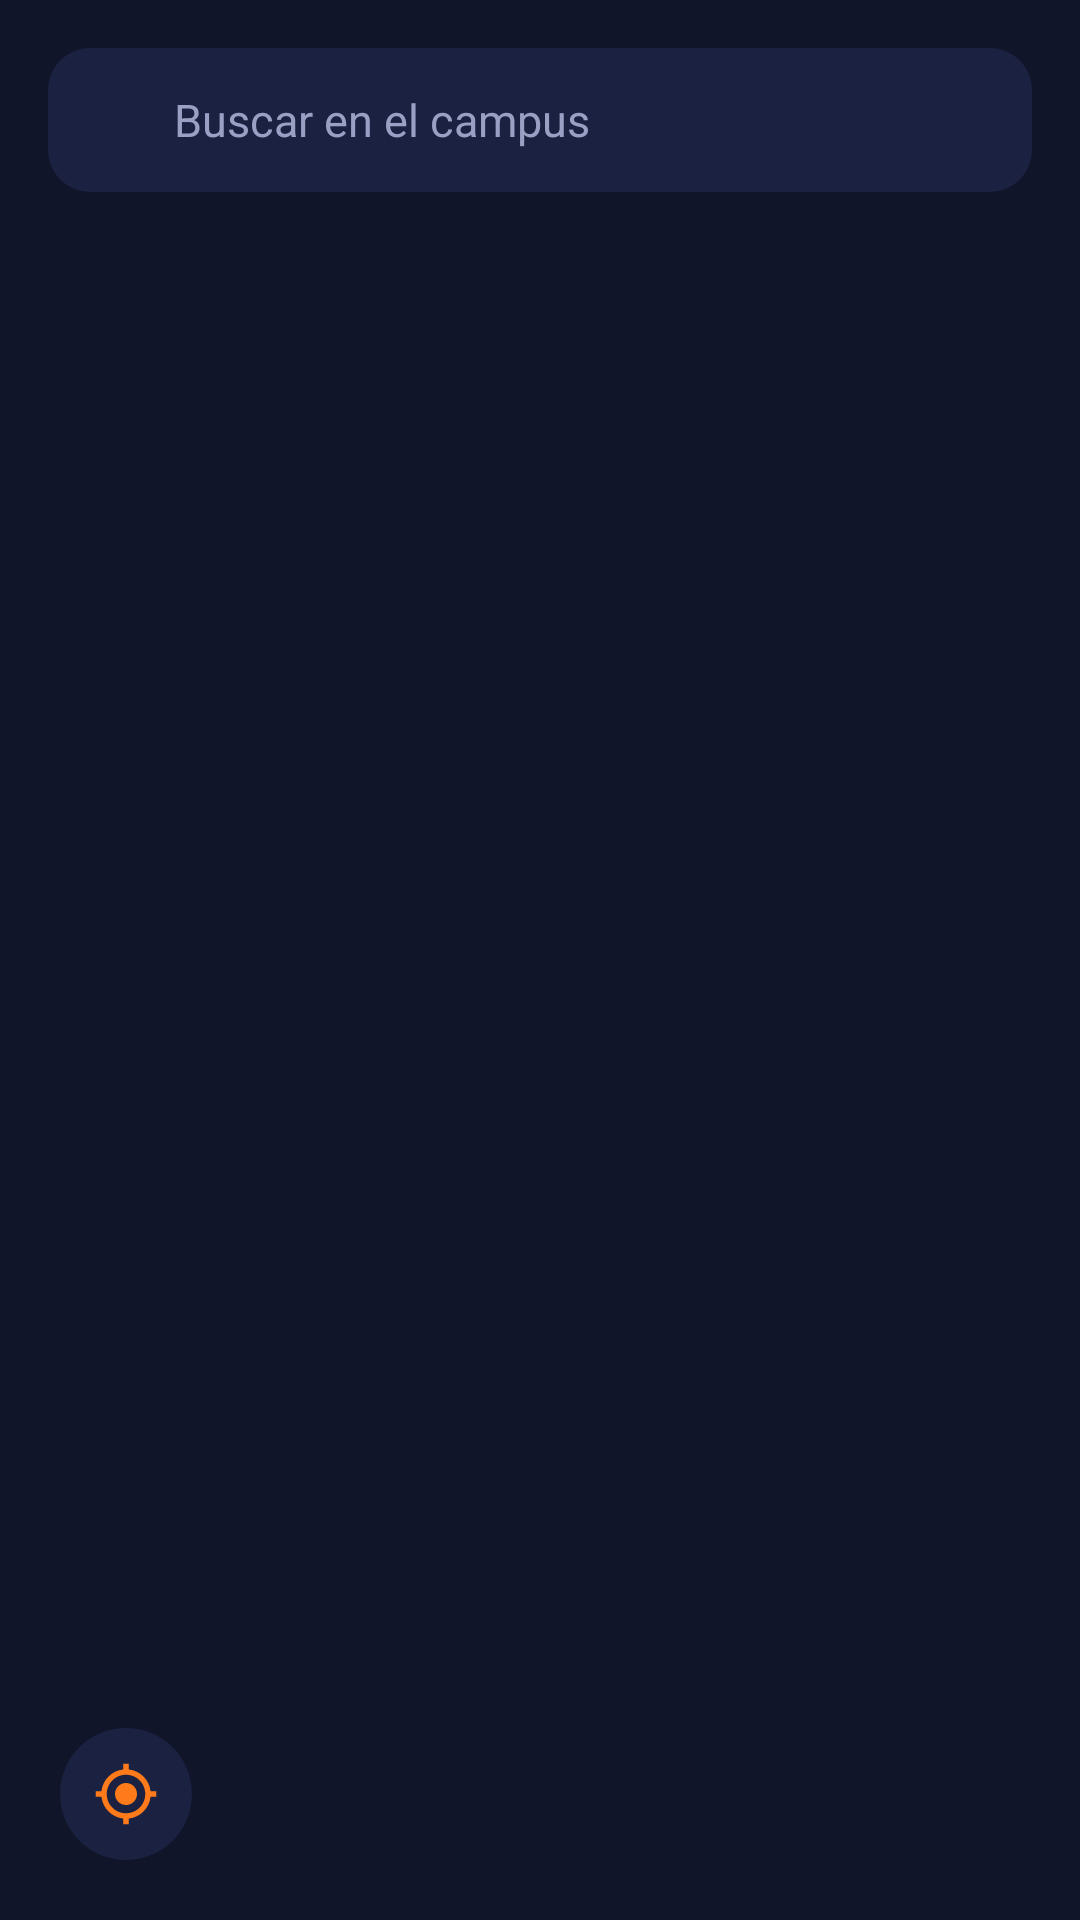

Named icons in this screenshot (1080px×1920px) and their centers, (x,y):
Mi ubicación: (126,1794)
